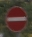No entry: (5, 6, 26, 32)
